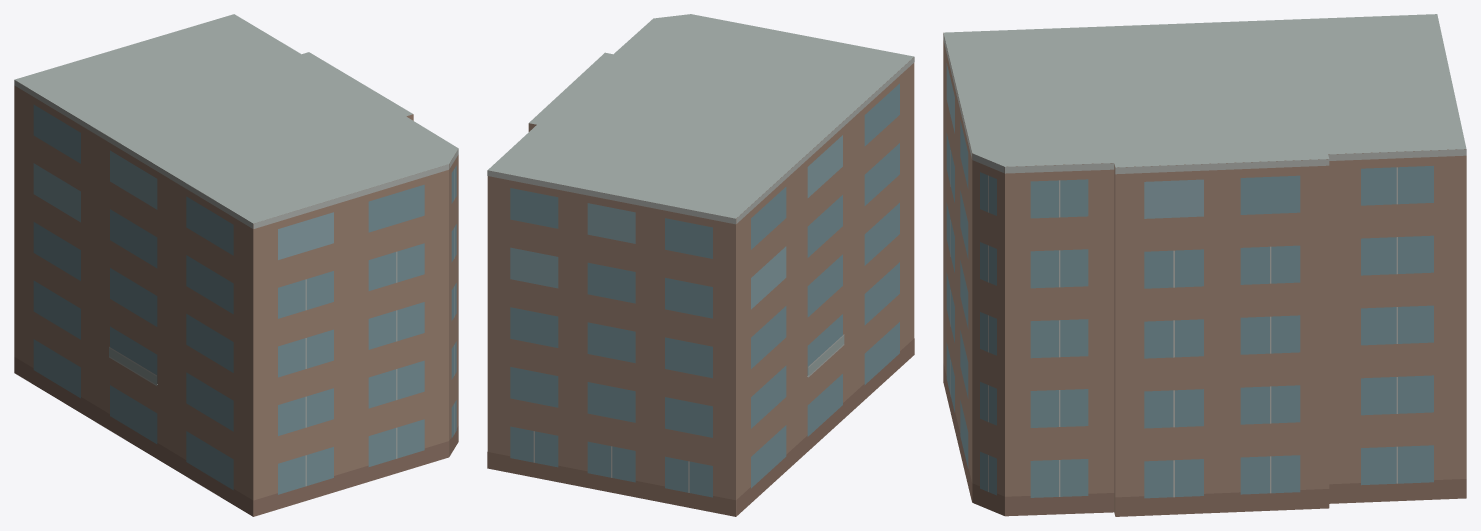
File: survey-upis-32653494.glb
3 views of the same model, side by side, from view 1: azimuth 30°, elevation 25°; view 2: azimuth 150°, elevation 25°; view 3: azimuth 270°, elevation 25° (orthographic). The views are drawn at different scales.
Parts seen in each view (by area): view 1: survey-upis-32653494.tmp; view 2: survey-upis-32653494.tmp; view 3: survey-upis-32653494.tmp.
Part boxes in pixels (bbox=[...]): survey-upis-32653494.tmp: bbox=[14, 14, 458, 516]; survey-upis-32653494.tmp: bbox=[487, 14, 914, 516]; survey-upis-32653494.tmp: bbox=[943, 14, 1466, 516].
Bounding box in the file's own units: 12.03 × 12.75 × 17.31.
